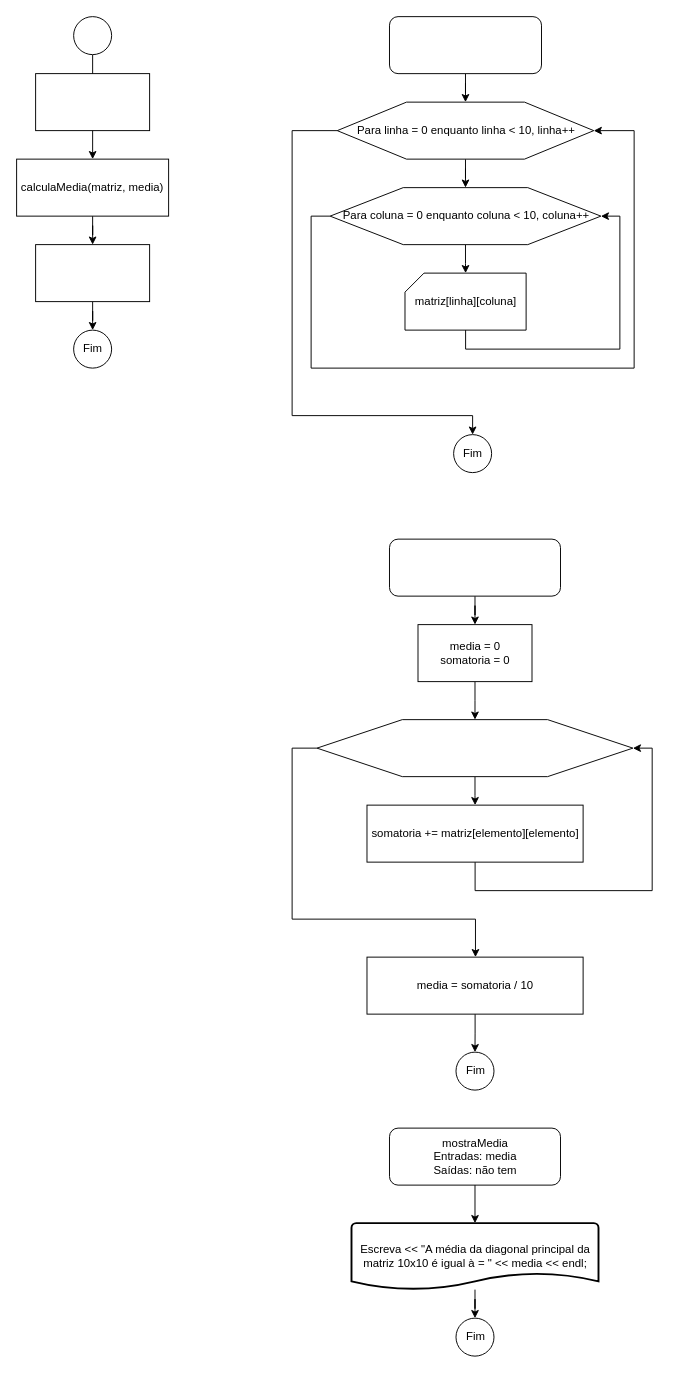
Image size: 676x1373. Some labels were removed from this diagram. Here are the shapes that lost their labels. From the top down, the box of each, then its label:
(73, 16, 112, 55): Início
(389, 16, 542, 74): lerMatriz Entradas: matriz[10][10] Saídas: não tem
(35, 73, 150, 131): lerMatriz(matriz)
(35, 244, 150, 302): mostrarMedia(media)
(389, 538, 560, 596): calculaMedia Entradas: matriz[10][10], media Saídas: não tem
(316, 719, 633, 777): Para elemento = 0 enquanto elemento < 10, elemento++
